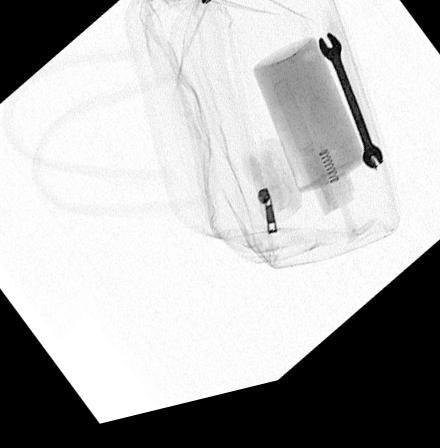Wrench: (317, 44, 382, 187)
